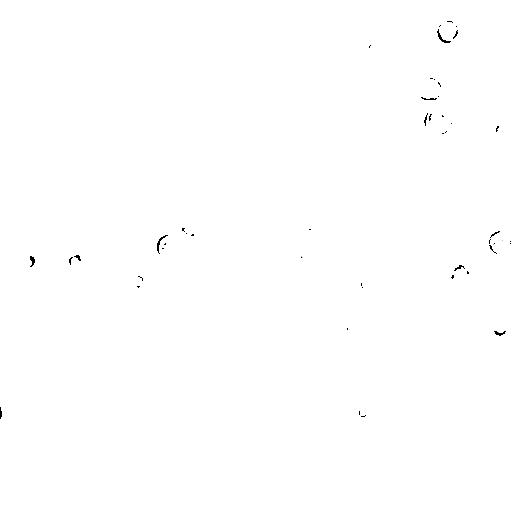micro-algae: (377, 13, 472, 111), (203, 89, 295, 180), (84, 127, 157, 197), (135, 63, 200, 125), (225, 106, 276, 159), (61, 297, 101, 338), (85, 264, 124, 300), (387, 282, 423, 319), (423, 106, 457, 138), (45, 98, 80, 127), (140, 252, 173, 282), (152, 232, 184, 261), (43, 482, 73, 511), (487, 227, 512, 257), (447, 262, 472, 292), (281, 21, 308, 48), (133, 178, 158, 207), (415, 77, 445, 100), (168, 422, 197, 445), (313, 295, 338, 321), (437, 19, 462, 44), (199, 372, 223, 397), (359, 272, 383, 295), (367, 33, 389, 56), (13, 251, 37, 272), (171, 136, 191, 159), (370, 228, 392, 248), (494, 115, 511, 140), (263, 0, 293, 14), (297, 225, 318, 245), (408, 424, 431, 442), (208, 281, 227, 301), (179, 219, 200, 236), (492, 318, 509, 337), (498, 11, 511, 35), (356, 403, 373, 421), (347, 315, 362, 335), (297, 247, 316, 262), (128, 272, 144, 289), (69, 253, 83, 268), (219, 31, 231, 45), (184, 504, 200, 511), (52, 0, 70, 5), (0, 407, 6, 421)
